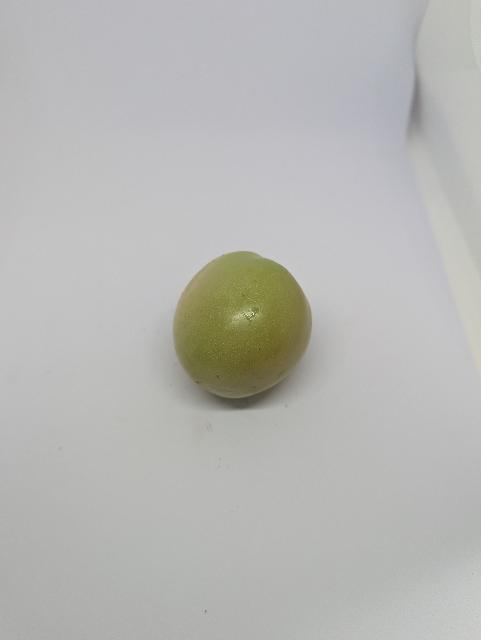green: (167, 230, 318, 433)
